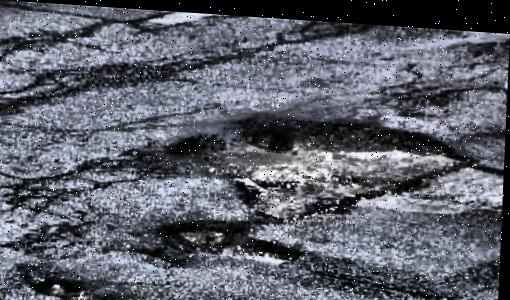pothole: (160, 100, 478, 225), (149, 209, 305, 262), (18, 260, 138, 300)
